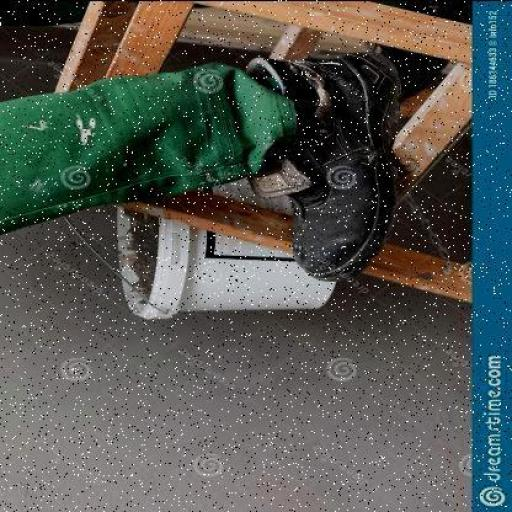safety_shoe: (290, 50, 408, 284)
